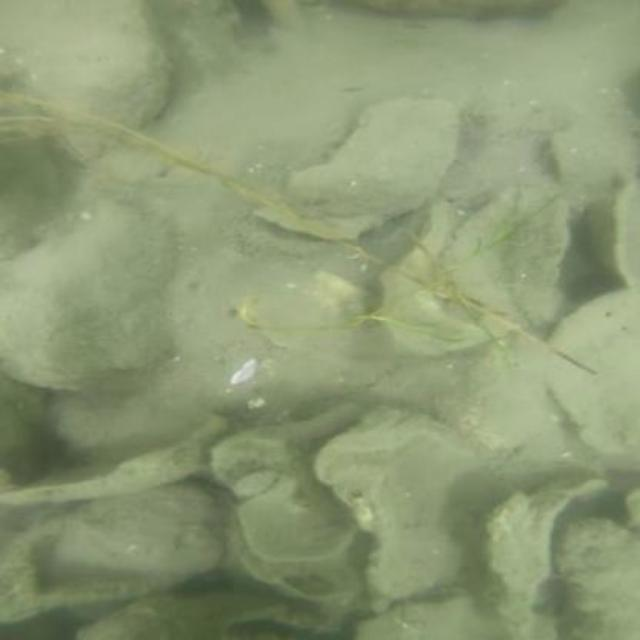Oyster-Closed: (308, 404, 485, 602), (0, 202, 177, 390), (252, 91, 460, 241), (21, 2, 170, 167), (211, 399, 376, 508), (49, 482, 231, 574), (558, 519, 640, 640)
